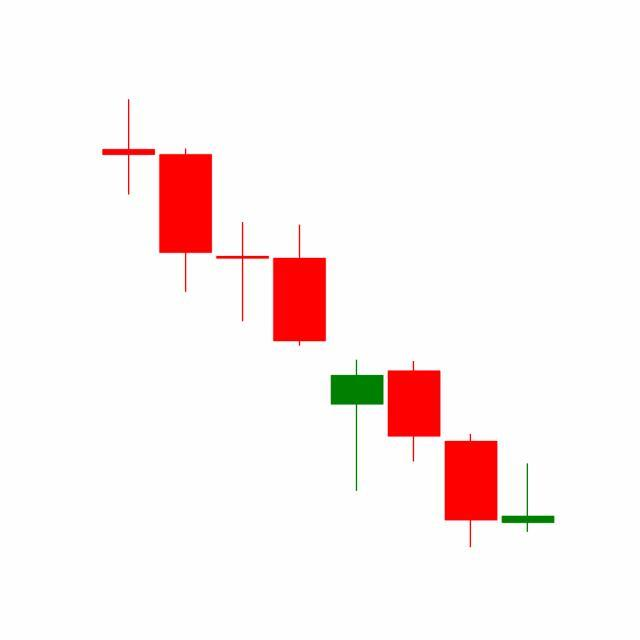Three Outside Up-Down: (328, 357, 500, 549)
